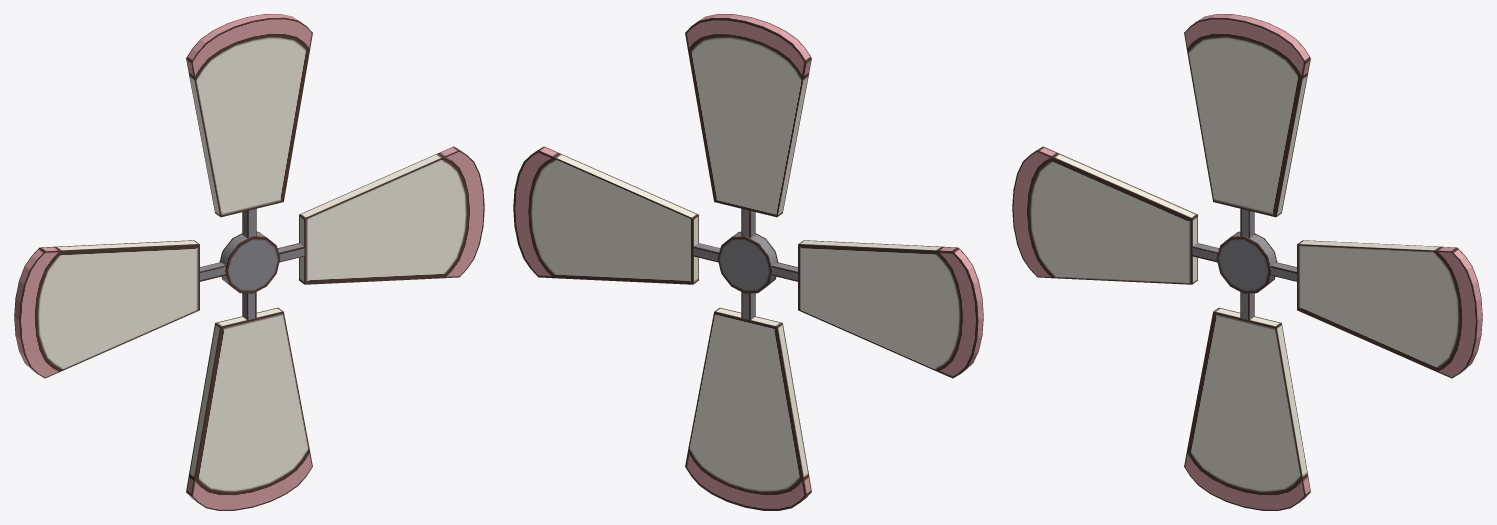
The model's file is Wind_Turbine_1.fbx.
The picture shows the model from 3 angles, left to right: view 1: azimuth 30°, elevation 25°; view 2: azimuth 150°, elevation 25°; view 3: azimuth 330°, elevation 25°; orthographic projection.
Visible parts, largest first — view 1: Wind_Turbine_1; view 2: Wind_Turbine_1; view 3: Wind_Turbine_1.
Part boxes in pixels (left/top/right/bottom): Wind_Turbine_1: left=14, top=14, right=484, bottom=510; Wind_Turbine_1: left=513, top=14, right=983, bottom=510; Wind_Turbine_1: left=1012, top=14, right=1482, bottom=510.
Size of the model in its own units: 6.34 by 6.34 by 0.1797.
Materials: 1 (1 with a texture image).
